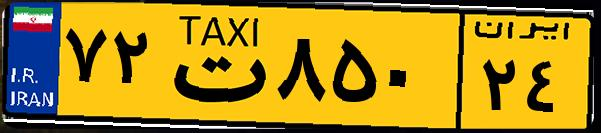0: (385, 28, 445, 110)
2: (475, 38, 525, 113), (110, 28, 158, 98)
4: (525, 38, 570, 115)
5: (330, 28, 385, 110)
7: (57, 26, 110, 100)
8: (270, 28, 330, 110)
ت: (158, 12, 270, 120)
